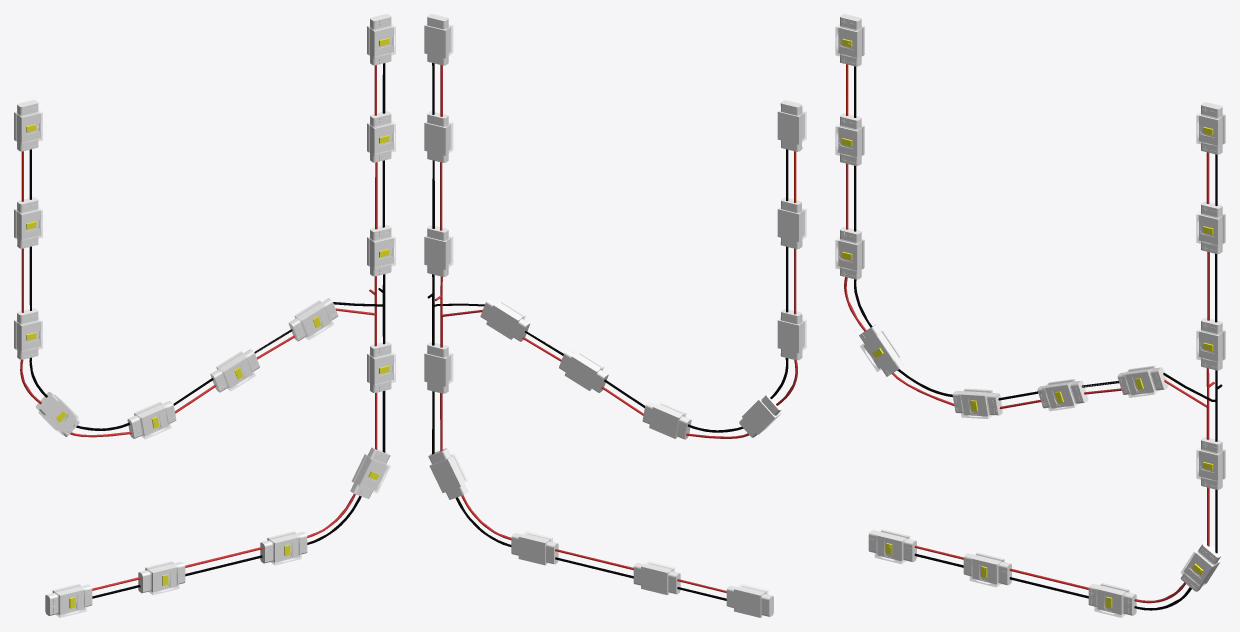
File: fixed.glb
3 renders of one model, left to right at view 1: azimuth 30°, elevation 25°; view 2: azimuth 150°, elevation 25°; view 3: azimuth 330°, elevation 25°, orthographic. The views are drawn at different scales.
Parts seen in each view (by area): view 1: fixed; view 2: fixed; view 3: fixed.
Boxes of the visible parts, x1,y1,x2,y2 form: fixed: (14, 14, 395, 617); fixed: (424, 14, 806, 617); fixed: (835, 14, 1225, 617).
Bounding box in the file's own units: 0.141 × 0.1865 × 0.00844.
